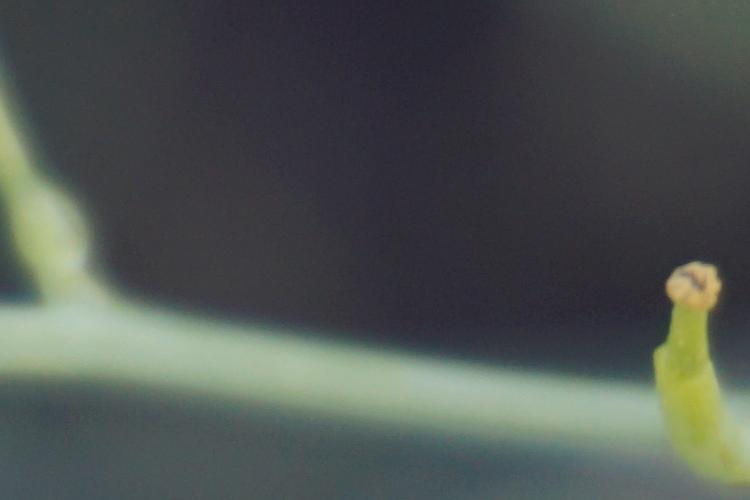pod: (634, 260, 749, 488)
